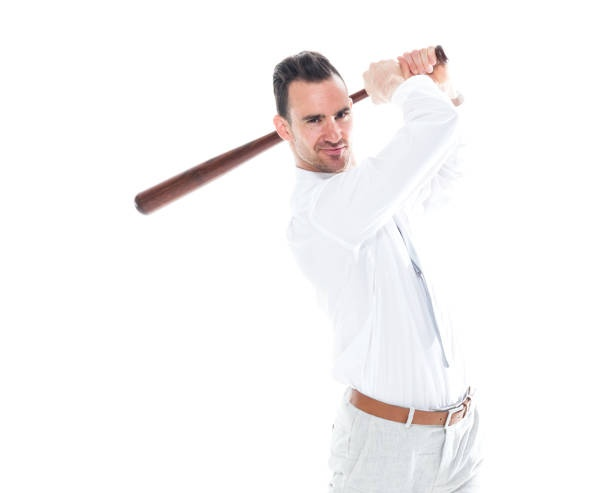bita: (126, 128, 282, 210), (348, 50, 441, 104)
